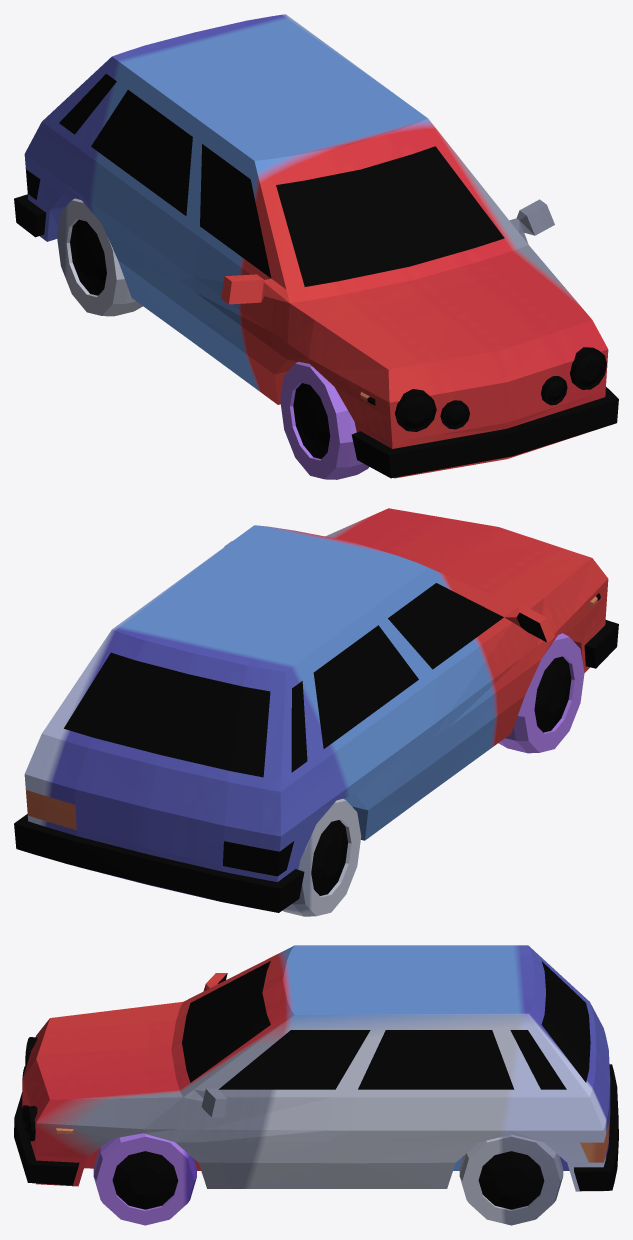
Rendered from car.glb.
The picture shows the model from 3 angles, top to bottom: view 1: azimuth 30°, elevation 25°; view 2: azimuth 150°, elevation 25°; view 3: azimuth 270°, elevation 25°; orthographic projection. The views are drawn at different scales.
Visible parts, largest first — view 1: Car; view 2: Car; view 3: Car.
Boxes of the visible parts, x1,y1,x2,y2 form: Car: (14,14,618,479); Car: (14,508,618,916); Car: (14,945,618,1225).
Size of the model in its own units: 45.5 by 32.33 by 89.11.
1 material, 1 textured.
